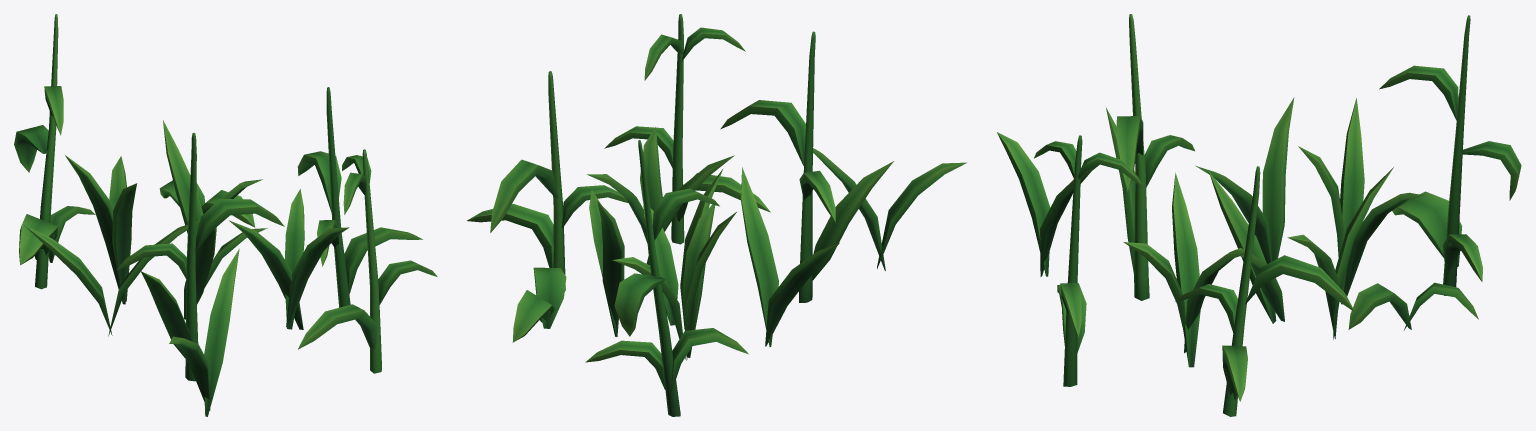
File: SM_Plant_Wheat_Lv1.fbx
3 renders of one model, left to right at view 1: azimuth 30°, elevation 25°; view 2: azimuth 150°, elevation 25°; view 3: azimuth 270°, elevation 25°, orthographic. The views are drawn at different scales.
Parts seen in each view (by area): view 1: SM_Plant_Wheat_Lv1; view 2: SM_Plant_Wheat_Lv1; view 3: SM_Plant_Wheat_Lv1.
Boxes of the visible parts, <box> form: SM_Plant_Wheat_Lv1: <box>14,14,437,416</box>; SM_Plant_Wheat_Lv1: <box>467,14,966,416</box>; SM_Plant_Wheat_Lv1: <box>997,14,1521,416</box>.
Size of the model in its own units: 62.08 by 42.24 by 66.95.
